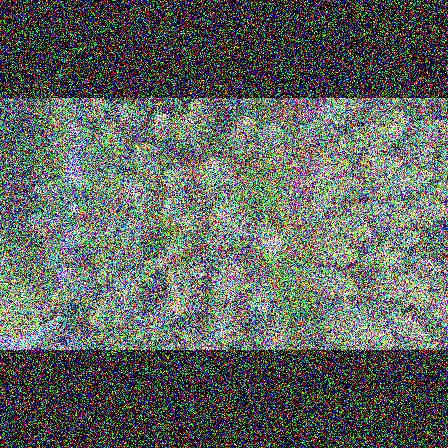Sick: (257, 229, 290, 263), (110, 274, 141, 305), (307, 194, 340, 223), (227, 217, 259, 246), (119, 175, 148, 205), (384, 253, 413, 277), (206, 234, 230, 256), (183, 268, 208, 287)
